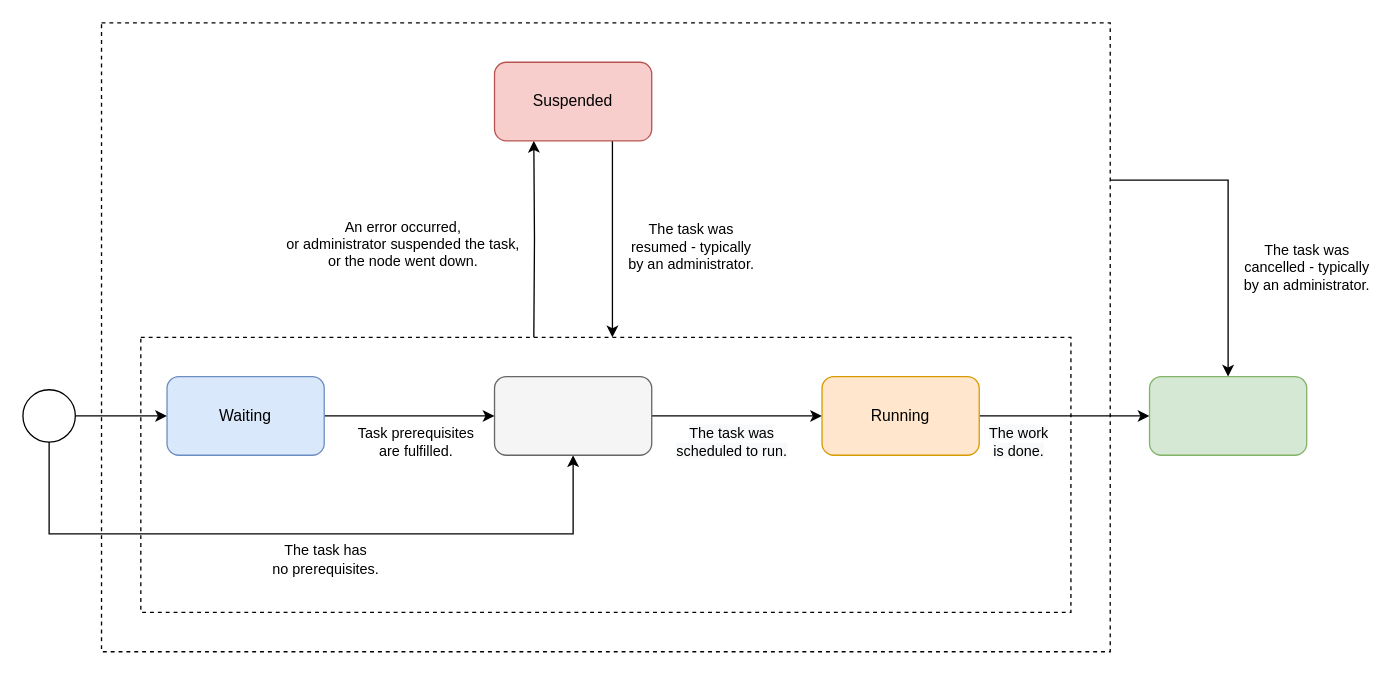
The diagram is 1393 pixels wide and 675 high, and some of its shapes have lost their labels. Each missing label, with the centre of its shape:
"Closed" goes at (x=1227, y=415).
"Runnable" goes at (x=572, y=415).
